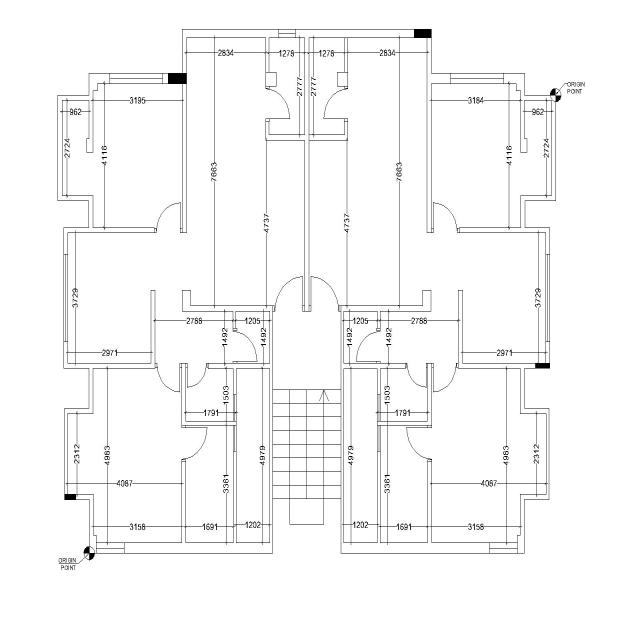Column: (168, 73, 187, 84), (414, 29, 432, 38), (535, 363, 550, 369), (64, 494, 76, 500)
Door: (272, 276, 305, 312), (309, 276, 341, 312), (405, 425, 432, 462), (182, 425, 208, 462), (322, 86, 348, 122), (233, 328, 258, 364), (355, 328, 380, 364), (431, 202, 460, 233), (154, 201, 182, 233), (266, 86, 290, 122), (155, 363, 182, 393), (432, 363, 458, 393), (405, 363, 428, 389), (186, 363, 208, 389)
Staircase: (273, 312, 341, 554)
Window: (109, 73, 163, 84), (450, 73, 504, 84), (64, 254, 68, 342), (546, 254, 550, 342), (489, 542, 518, 554), (96, 542, 124, 554), (278, 29, 296, 38), (377, 394, 381, 422), (234, 394, 236, 422), (234, 425, 236, 452), (378, 425, 380, 452)
